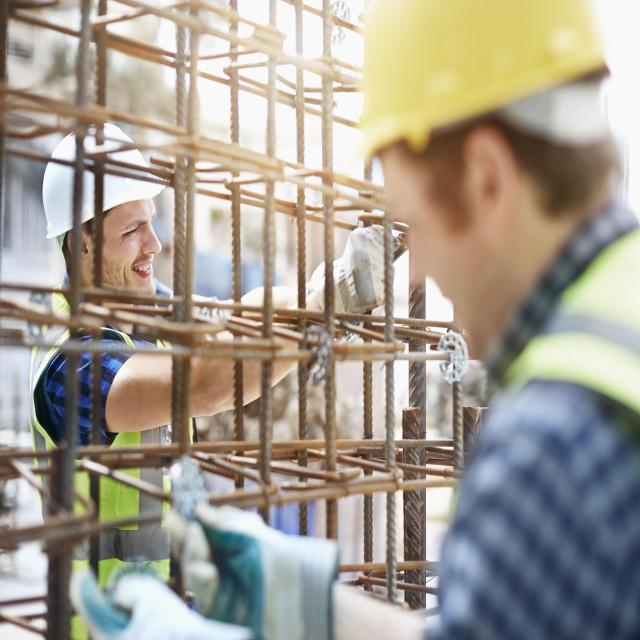Reflective-Jacket: (27, 315, 180, 640), (494, 217, 640, 450)
Safety-Helmet: (351, 0, 620, 158), (37, 122, 167, 240)
